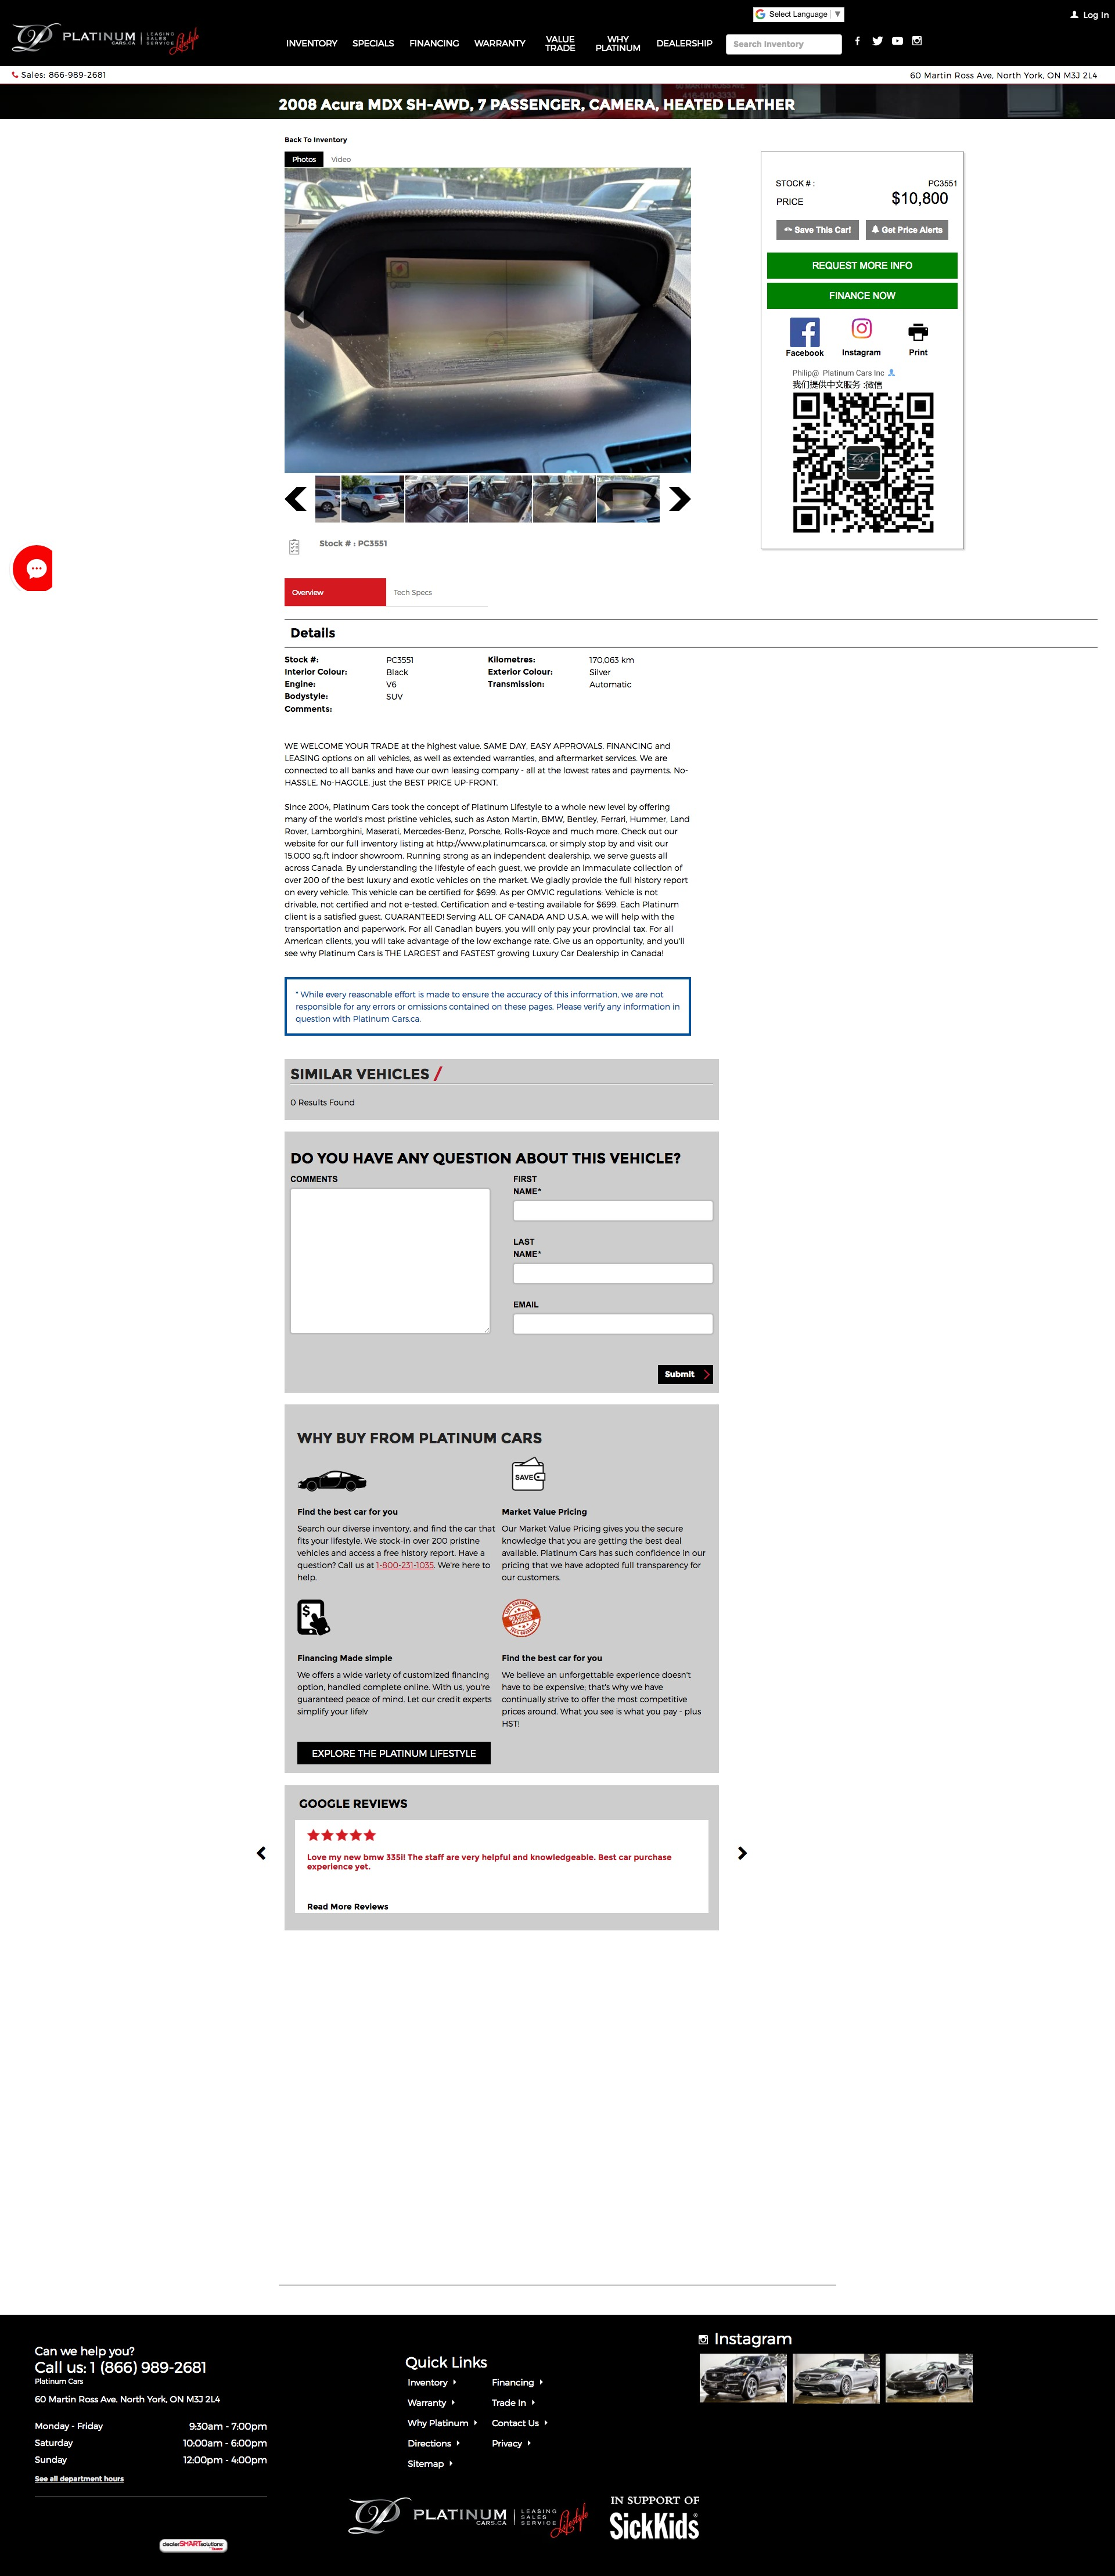car: (668, 486, 691, 513)
